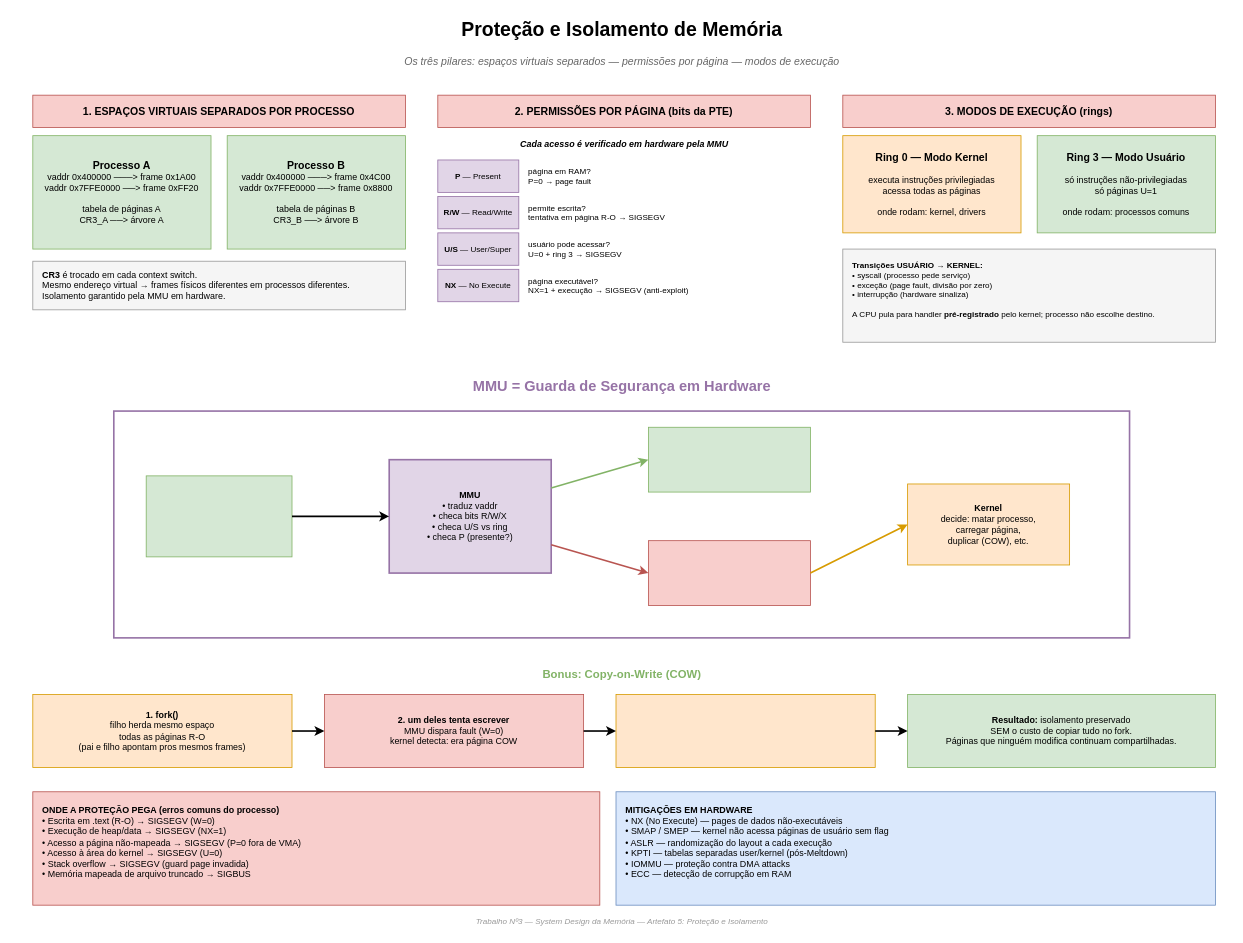
Some shapes in this 1243 by 943 pixel diagram are drawn without their labels. Here are the shapes that lost their labels. From the top down, the centre of each, then its label:
At [729,459]: "✓ OK Acesso à RAM processo continua".
At [218,516]: "Processo tenta acesso a endereço virtual".
At [729,572]: "✗ VIOLAÇÃO exceção → kernel kernel envia SIGSEGV / SIGBUS / OOM kill".
At [745,730]: "3. kernel duplica AQUELA página cada um fica com seu frame libera escrita".
